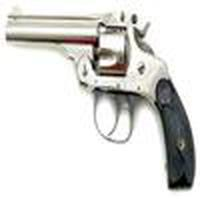gun: (5, 11, 200, 161)
